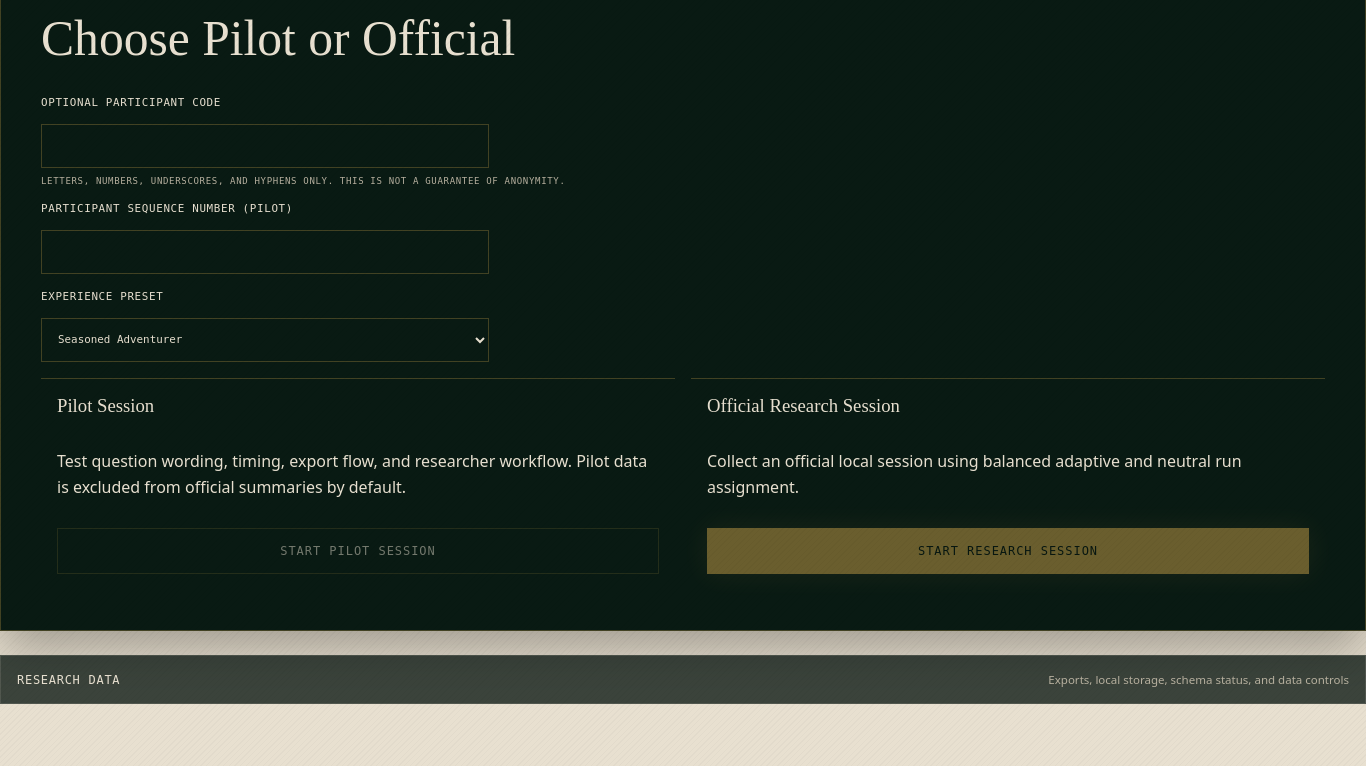
Test case: Research Mode opt-in page › records nothing before explicit opt-in and explains local-only participation
(page scrolled)
Check: the button "Start Pilot Session" is disabled, box [57, 528, 659, 574]
Check: the button "Start Research Session" is disabled, box [707, 528, 1309, 574]
Click the text "Research Data". click: (69, 680)
box: [17, 673, 120, 687]
(page scrolled)
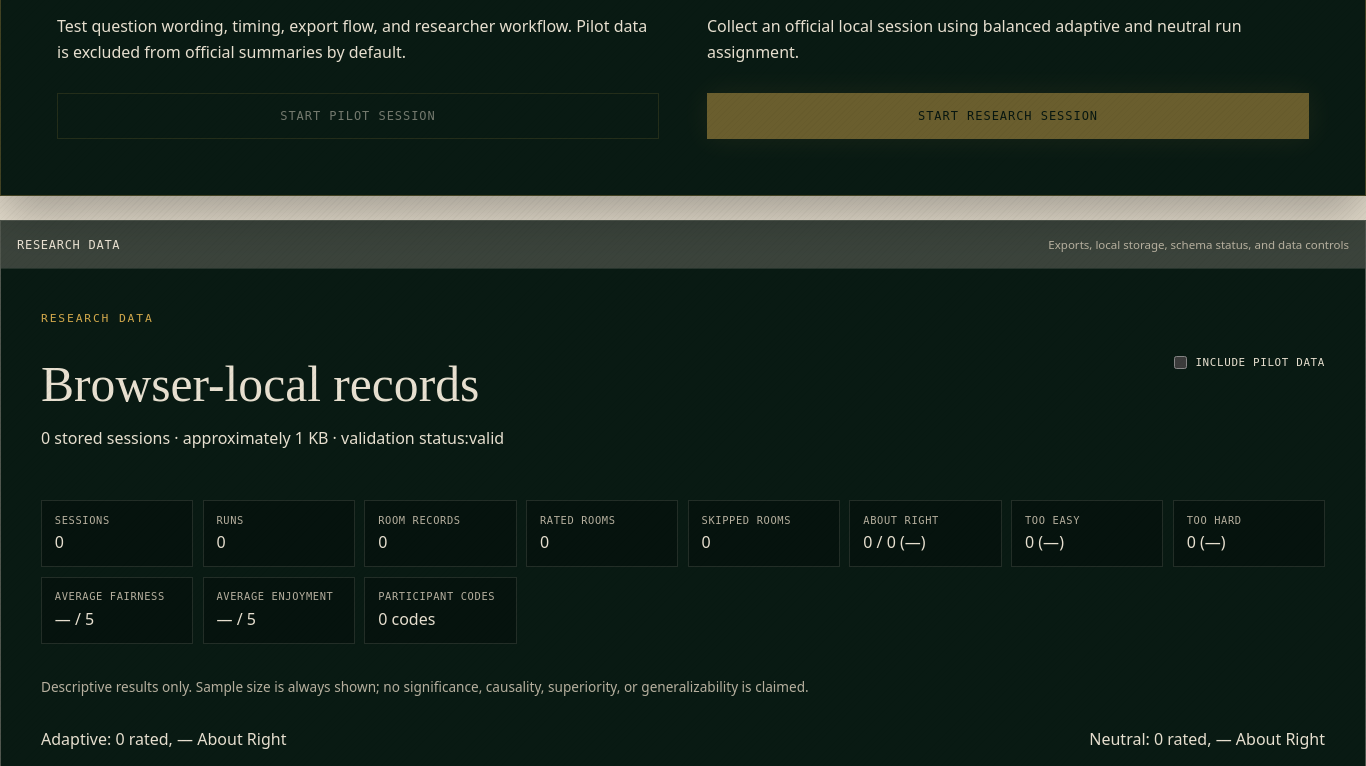
Check: the heading "Browser-local records" is shown, box [41, 356, 504, 413]
